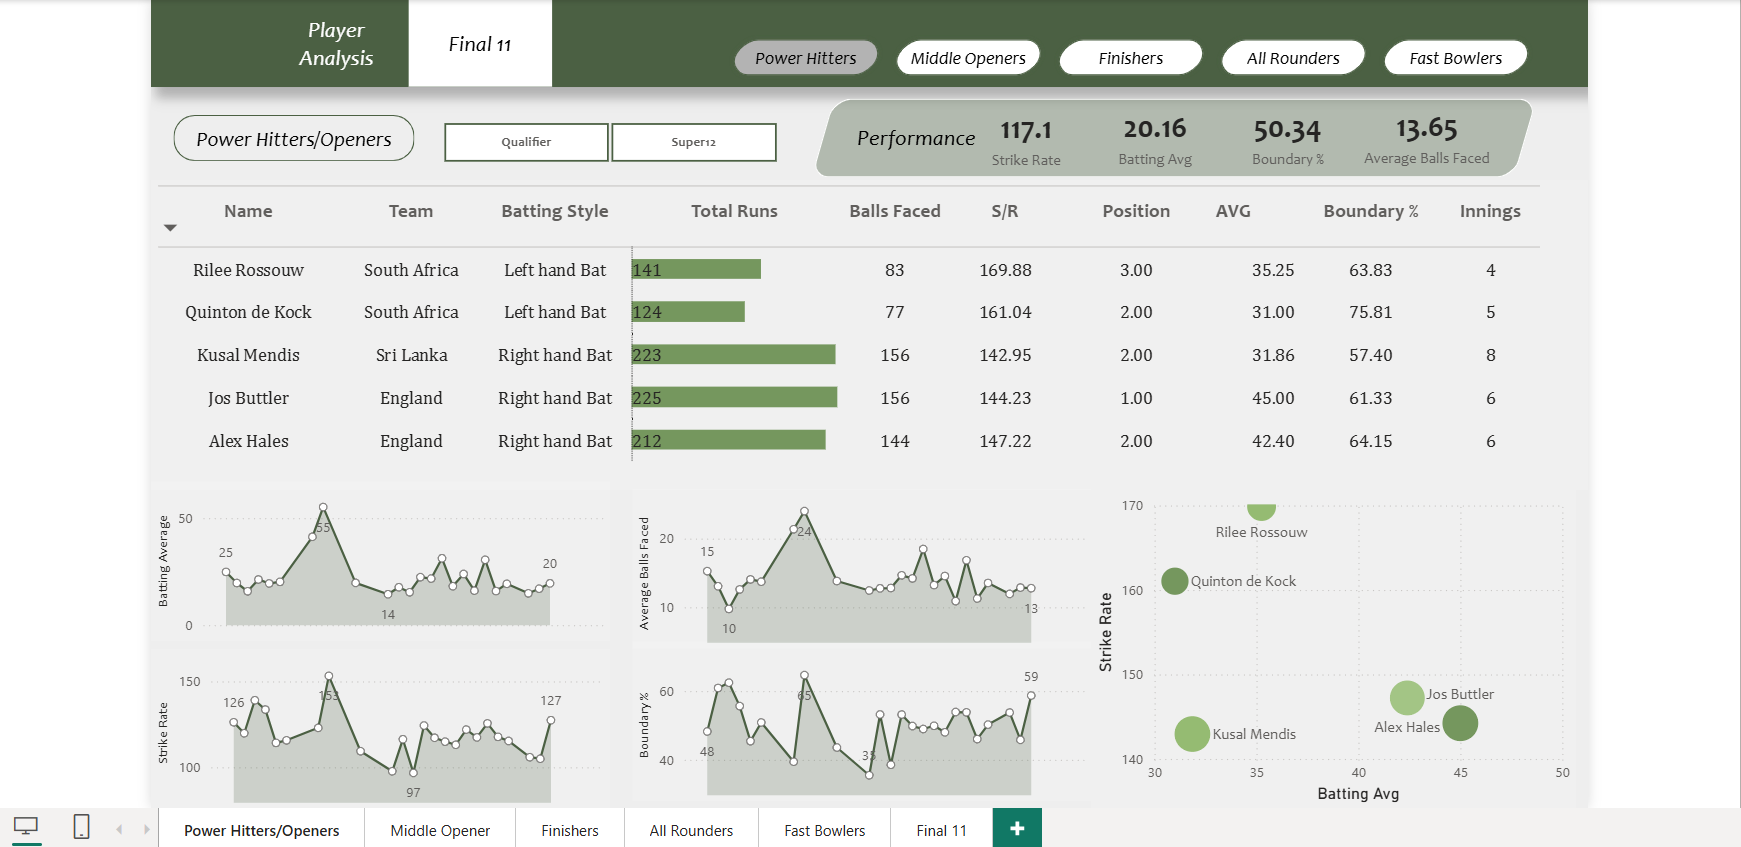

Layout of this report page (visuals, bound fields, positions):
{"tool":"powerbi","page":{"name":"Power Hitters/Openers","canvas":[1280,720],"ordinal":0},"visuals":[{"type":"shape","box":[0,0,1280,77.5],"z":0},{"type":"tableEx","fields":{"Values":["dim_players.name","dim_players.team","dim_players.battingStyle","Batting Measures.Total Runs","Batting Measures.Total Balls Faced","Batting Measures.Strike Rate","Batting Measures.Batting Position","Batting Measures.Batting Avg","Batting Measures.Boundary %","Batting Measures.Total Innings Batted"]},"box":[0,160.5,1280,276.3],"z":1000},{"type":"scatterChart","fields":{"Category":["dim_players.name"],"Y":["Batting Measures.Strike Rate"],"Size":["Batting Measures.Total Runs"],"X":["Batting Measures.Batting Avg"],"Series":["dim_players.name"]},"box":[837.3,436.7,431.9,283.5],"z":2000},{"type":"shape","box":[587.5,88.1,646.7,70],"z":3000},{"type":"card","fields":{"Values":["Batting Measures.Batting Avg"]},"box":[837,87.8,114.6,66.4],"z":4000},{"type":"card","fields":{"Values":["Batting Measures.Average Balls Faced"]},"box":[1071.1,86.6,131.5,66.4],"z":5000},{"type":"card","fields":{"Values":["Batting Measures.Boundary %"]},"box":[952.8,87.8,119.4,65.1],"z":6000},{"type":"slicer","fields":{"Values":["dim_match_summary.Stage"]},"box":[235.3,102.5,346.2,48.3],"z":7000},{"type":"shape","box":[20.5,102.5,214.7,41],"z":8000},{"type":"card","fields":{"Values":["Batting Measures.Strike Rate"]},"box":[722.4,87.8,114.6,67.6],"z":9000},{"type":"areaChart","fields":{"Category":["dim_match_summary.matchDate.Variation.Date Hierarchy.Day"],"Y":["Batting Measures.Batting Avg"]},"box":[0,428.3,409,142.4],"z":10000},{"type":"areaChart","fields":{"Category":["dim_match_summary.matchDate.Variation.Date Hierarchy.Day"],"Y":["Batting Measures.Boundary %"]},"box":[428.3,570.6,409,142.4],"z":11000},{"type":"areaChart","fields":{"Category":["dim_match_summary.matchDate.Variation.Date Hierarchy.Day"],"Y":["Batting Measures.Strike Rate"]},"box":[0,577.9,409,142.4],"z":12000},{"type":"areaChart","fields":{"Category":["dim_match_summary.matchDate.Variation.Date Hierarchy.Day"],"Y":["Batting Measures.Average Balls Faced"]},"box":[428.3,435.5,409,142.4],"z":13000},{"type":"actionButton","box":[510.8,30.9,144.8,39.8],"z":14000},{"type":"actionButton","box":[1089.9,30.9,144.8,39.8],"z":15000},{"type":"actionButton","box":[945.1,30.9,144.8,39.8],"z":16000},{"type":"actionButton","box":[800.4,30.9,144.8,39.8],"z":17000},{"type":"actionButton","box":[655.6,30.9,144.8,39.8],"z":18000},{"type":"actionButton","box":[229.2,0,127.9,77.2],"z":18001},{"type":"actionButton","box":[101.3,0,127.9,77.2],"z":18002}]}

Visuals, with their boxes on the page's 1280x720 design canvas (x1, y1, x2, y2). These are canvas units, not pixel positions in the 1741x847 screenshot, which may show the page scaled, cropped or inside an application window:
shape: box=[0, 0, 1280, 78]
tableEx - dim_players.name x dim_players.team: box=[0, 160, 1280, 437]
scatterChart - dim_players.name x Batting Measures.Strike Rate: box=[837, 437, 1269, 720]
shape: box=[588, 88, 1234, 158]
card - Batting Measures.Batting Avg: box=[837, 88, 952, 154]
card - Batting Measures.Average Balls Faced: box=[1071, 87, 1203, 153]
card - Batting Measures.Boundary %: box=[953, 88, 1072, 153]
slicer - dim_match_summary.Stage: box=[235, 102, 582, 151]
shape: box=[20, 102, 235, 144]
card - Batting Measures.Strike Rate: box=[722, 88, 837, 155]
areaChart - dim_match_summary.matchDate.Variation.Date Hierarchy.Day x Batting Measures.Batting Avg: box=[0, 428, 409, 571]
areaChart - dim_match_summary.matchDate.Variation.Date Hierarchy.Day x Batting Measures.Boundary %: box=[428, 571, 837, 713]
areaChart - dim_match_summary.matchDate.Variation.Date Hierarchy.Day x Batting Measures.Strike Rate: box=[0, 578, 409, 720]
areaChart - dim_match_summary.matchDate.Variation.Date Hierarchy.Day x Batting Measures.Average Balls Faced: box=[428, 436, 837, 578]
actionButton: box=[511, 31, 656, 71]
actionButton: box=[1090, 31, 1235, 71]
actionButton: box=[945, 31, 1090, 71]
actionButton: box=[800, 31, 945, 71]
actionButton: box=[656, 31, 800, 71]
actionButton: box=[229, 0, 357, 77]
actionButton: box=[101, 0, 229, 77]
